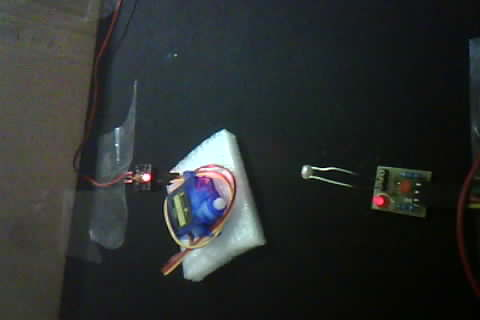motor: (163, 128, 269, 278)
